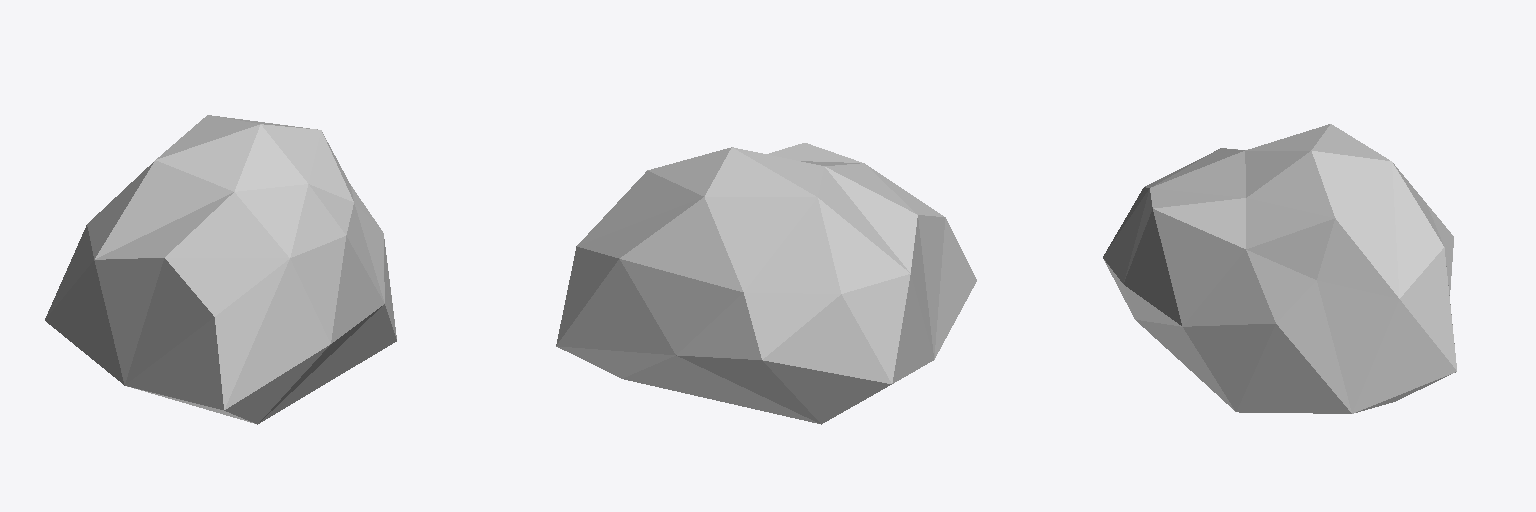
File: stone04.obj
The picture shows the model from 3 angles: view 1: azimuth 30°, elevation 25°; view 2: azimuth 150°, elevation 25°; view 3: azimuth 270°, elevation 25°; orthographic projection.
Parts seen in each view (by area): view 1: Icosphere; view 2: Icosphere; view 3: Icosphere.
Part boxes in pixels (left/top/right/bottom): Icosphere: left=45, top=115, right=396, bottom=424; Icosphere: left=556, top=143, right=976, bottom=424; Icosphere: left=1103, top=124, right=1456, bottom=413.
Size of the model in its own units: 1.19 by 0.7816 by 1.09.